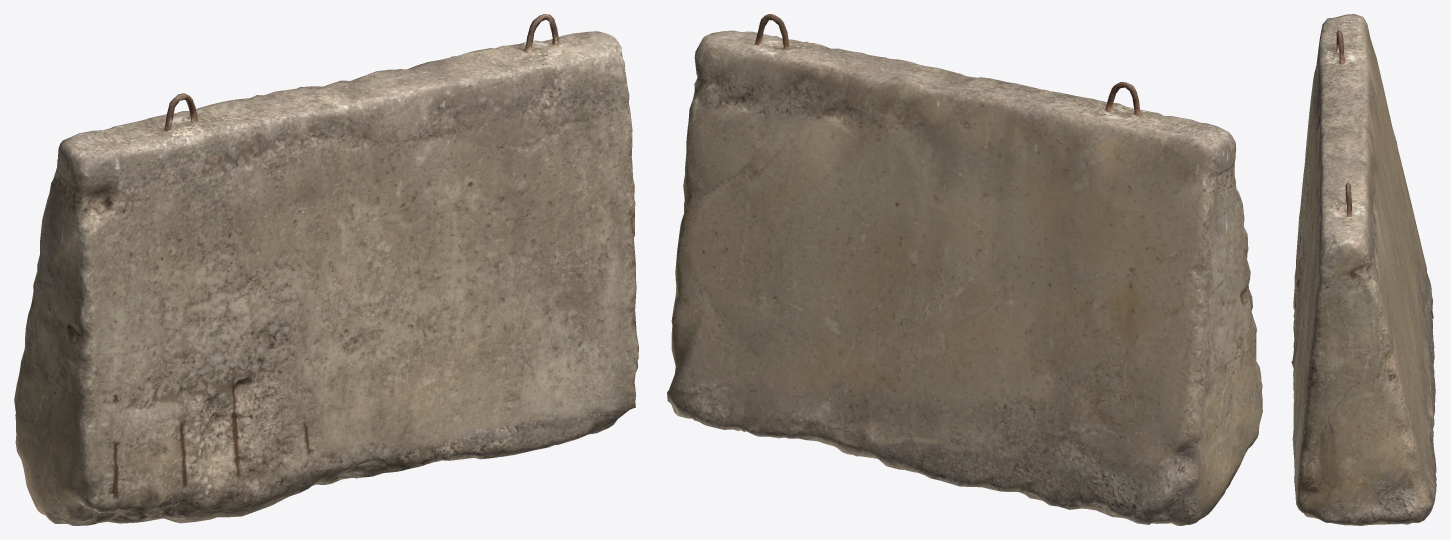
Rendered from concrete_road_barrier_02.glb.
3 renders of one model, left to right at view 1: azimuth 30°, elevation 25°; view 2: azimuth 150°, elevation 25°; view 3: azimuth 270°, elevation 25°, orthographic. The views are drawn at different scales.
Visible parts, largest first — view 1: concrete_road_barrier_02; view 2: concrete_road_barrier_02; view 3: concrete_road_barrier_02.
Part boxes in pixels (x1,y1,x2,y2): concrete_road_barrier_02: (14,14,638,525); concrete_road_barrier_02: (667,14,1262,525); concrete_road_barrier_02: (1291,14,1436,525).
Size of the model in its own units: 1.57 by 1.11 by 0.4421.
Materials: 1 (1 with a texture image).
